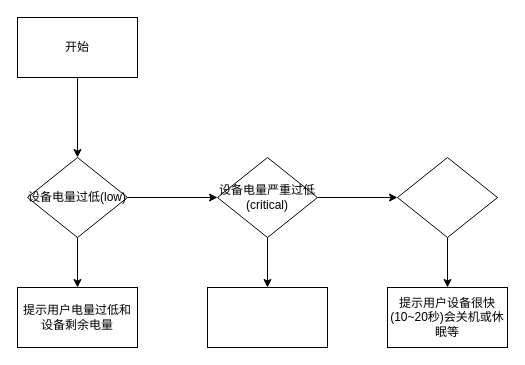
The diagram is 525 pixels wide and 365 high, and some of its shapes have lost their labels. The centre of each missing label's shape, as x and y in pixels:
提示用户设备不久会关机或休眠: the point at 267,317
设备电量已不足(action): the point at 447,197
